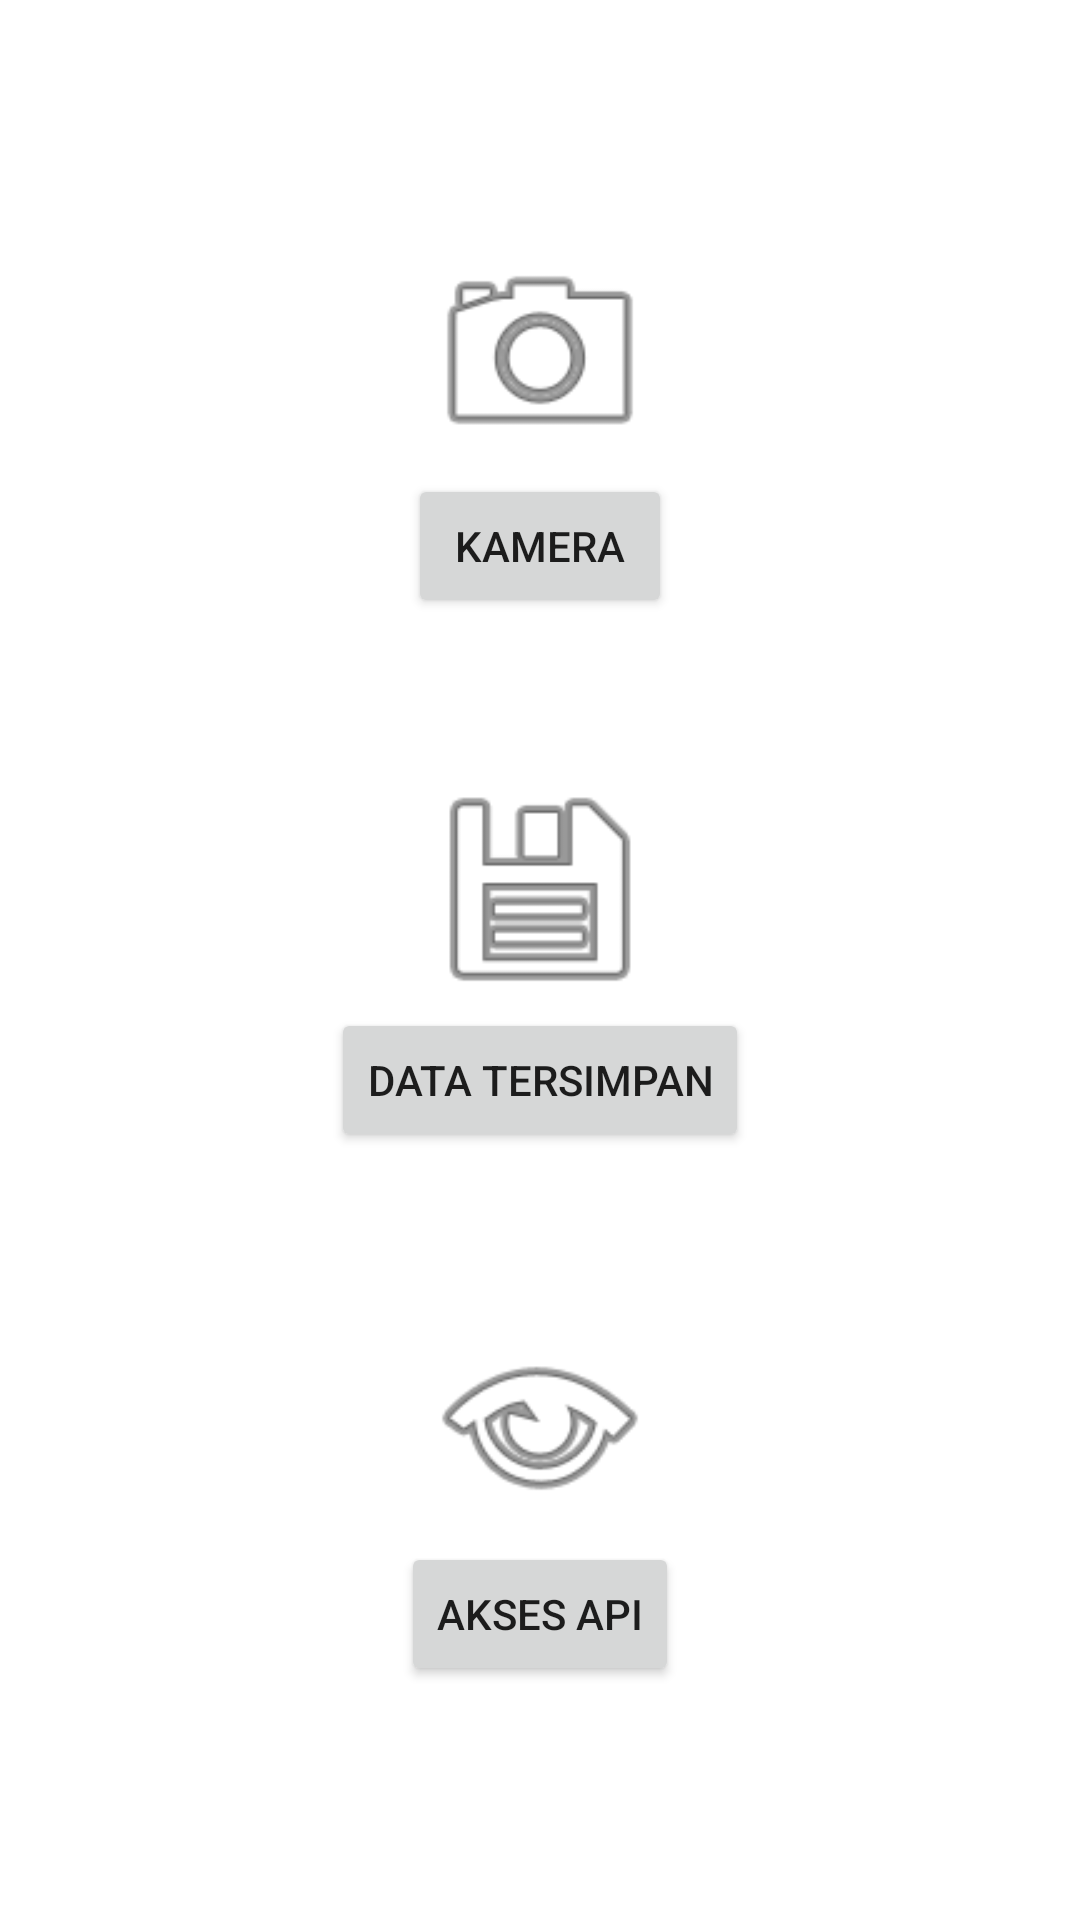

Where icons sit on this 1080*1920 app screen, as (left=x1, top=y1, right=x2, bottom=y2):
camera: (left=447, top=276, right=633, bottom=424)
save: (left=449, top=797, right=631, bottom=981)
view: (left=442, top=1366, right=638, bottom=1490)
